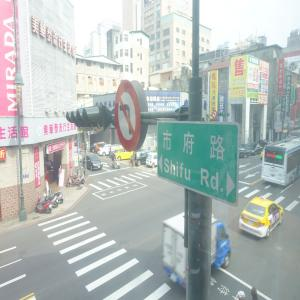Vehicle-registration-plate: (249, 221, 255, 224)
